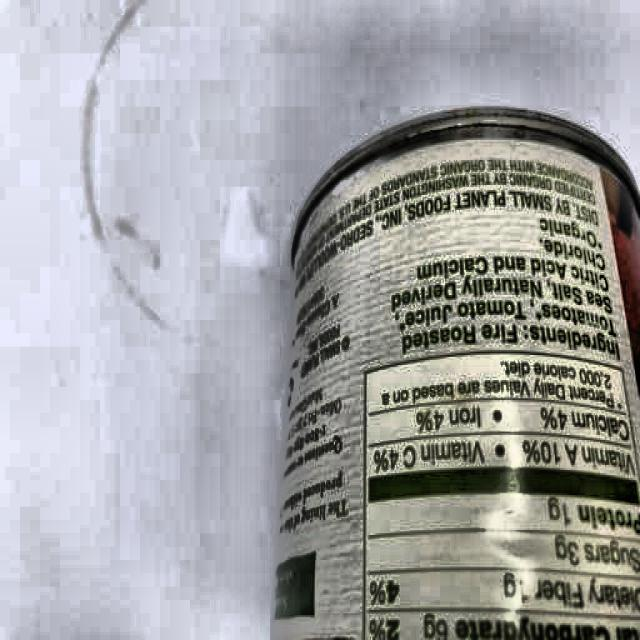metal: (281, 101, 640, 640)
